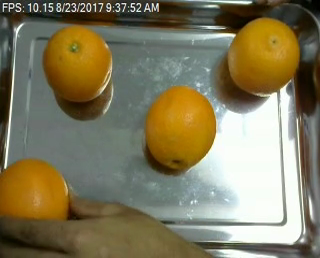Orange: (144, 86, 217, 169), (227, 16, 300, 97), (42, 25, 112, 103)
